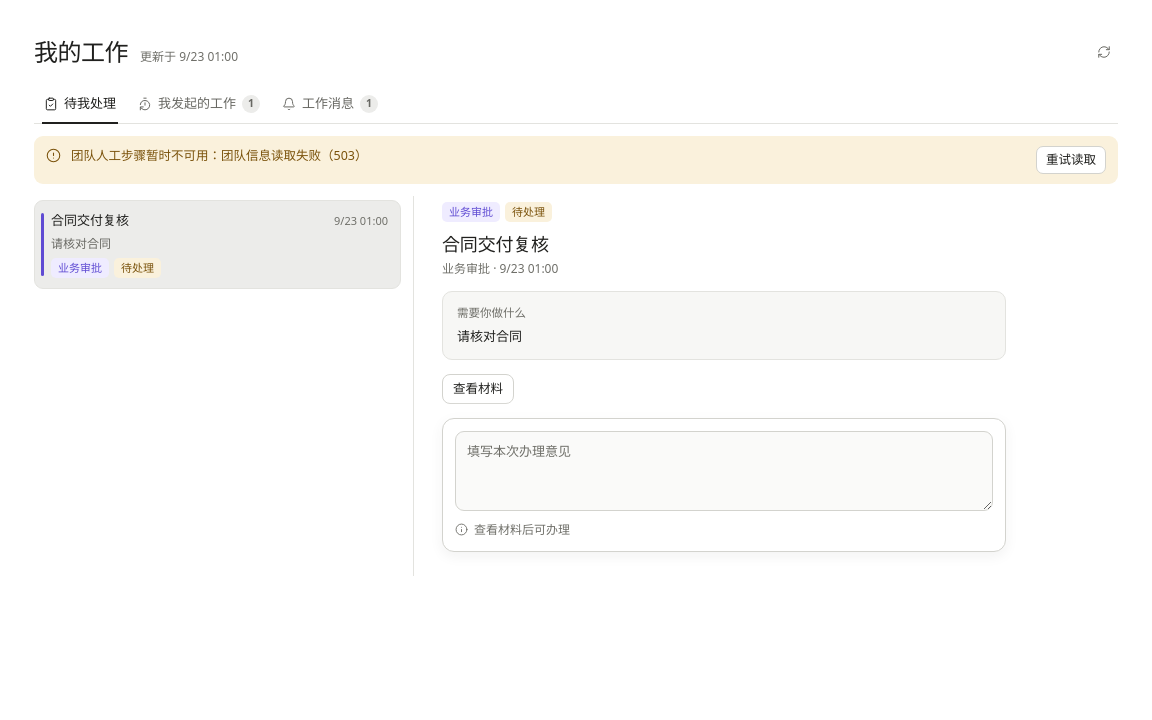
Scenario: labels a Weave notification body as a run message summary
Click the tab "工作消息 1": (330, 104) [272,85,388,123]
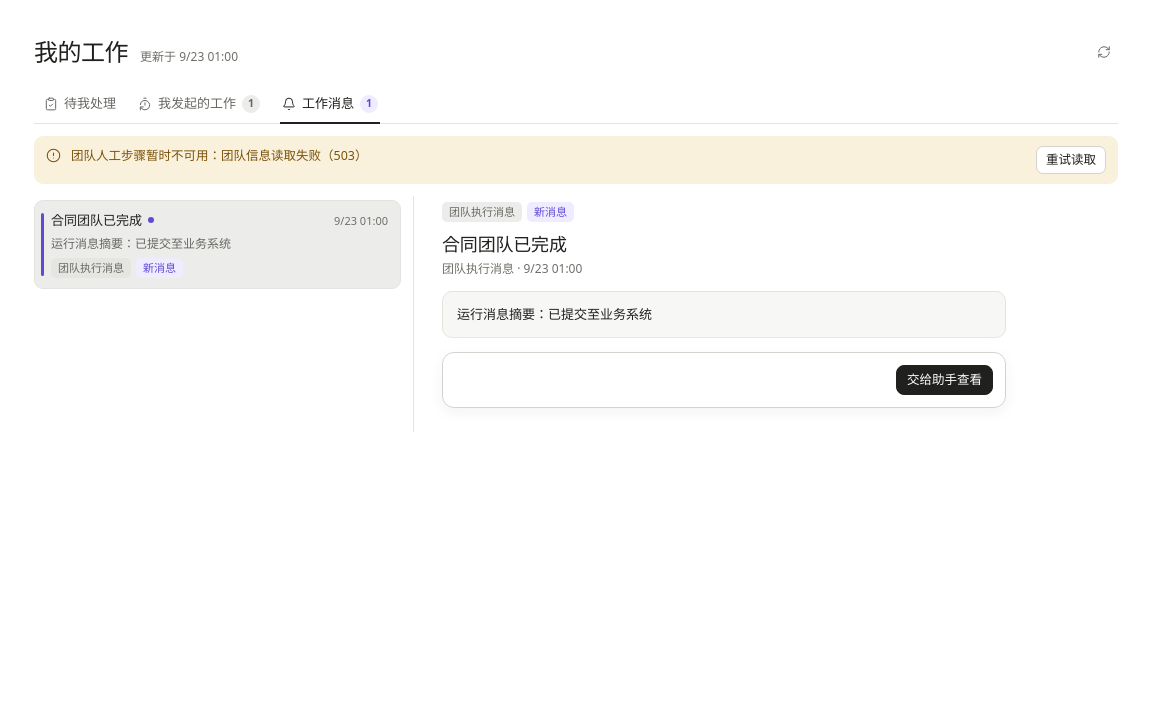
Expected: the text "运行消息摘要：已提交至业务系统" is shown, [51,235,231,252]
